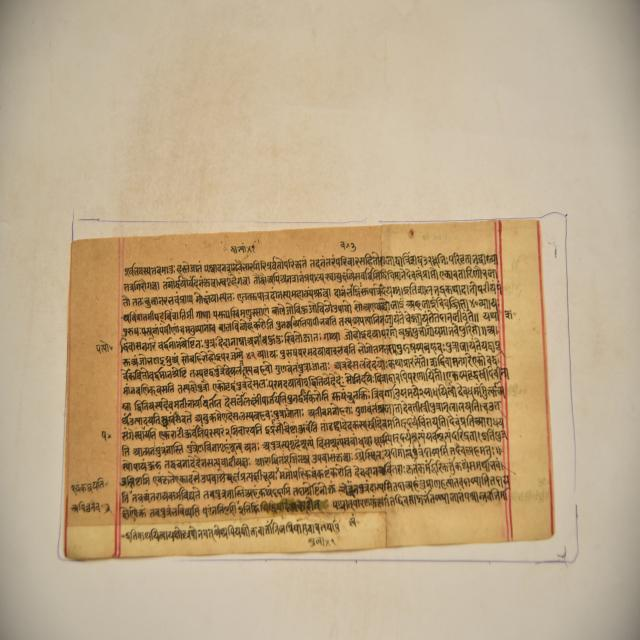text_paragraph: (64, 218, 553, 559)
